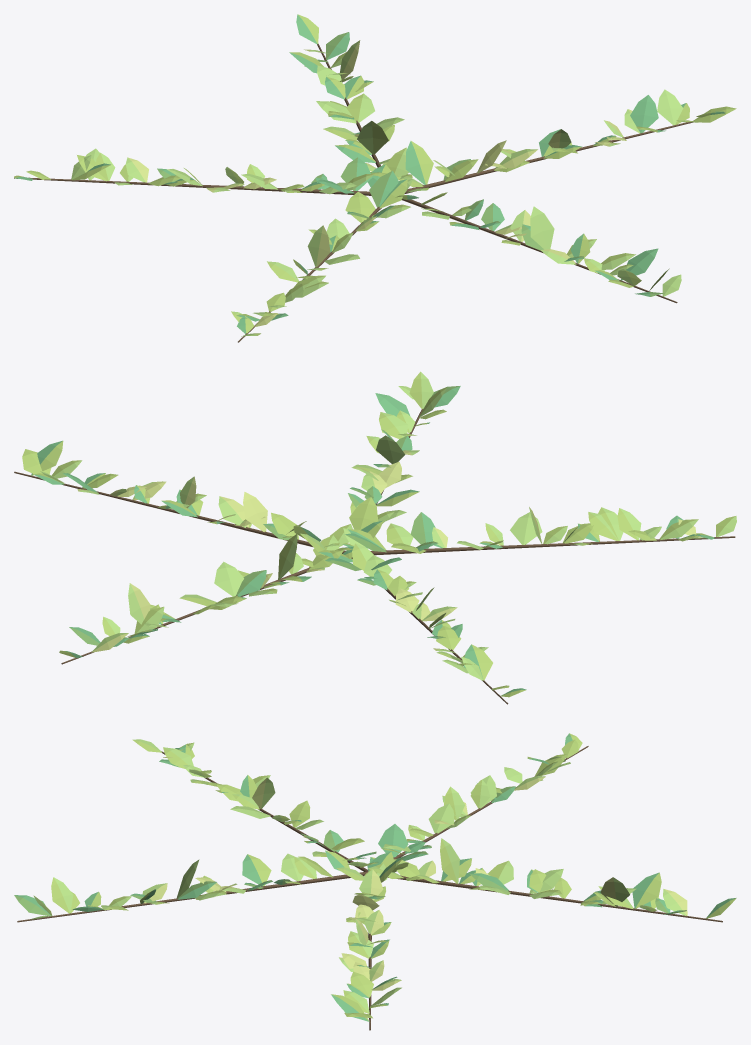
Rendered from Ivy_04_Ground.glb.
The picture shows the model from 3 angles, top to bottom: view 1: azimuth 30°, elevation 25°; view 2: azimuth 150°, elevation 25°; view 3: azimuth 270°, elevation 25°; orthographic projection. The views are drawn at different scales.
Parts seen in each view (by area): view 1: Ivy_04_Ground; view 2: Ivy_04_Ground; view 3: Ivy_04_Ground.
Part boxes in pixels (x1,y1,x2,y2): Ivy_04_Ground: (14, 14, 736, 342); Ivy_04_Ground: (14, 371, 736, 704); Ivy_04_Ground: (14, 733, 736, 1030).
Bounding box in the file's own units: 2.58 × 0.1859 × 2.73.
